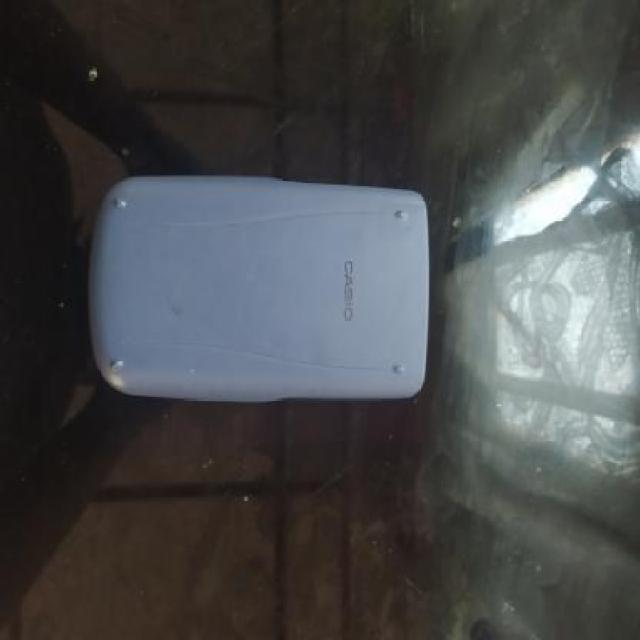Calculator: (82, 160, 435, 409)
